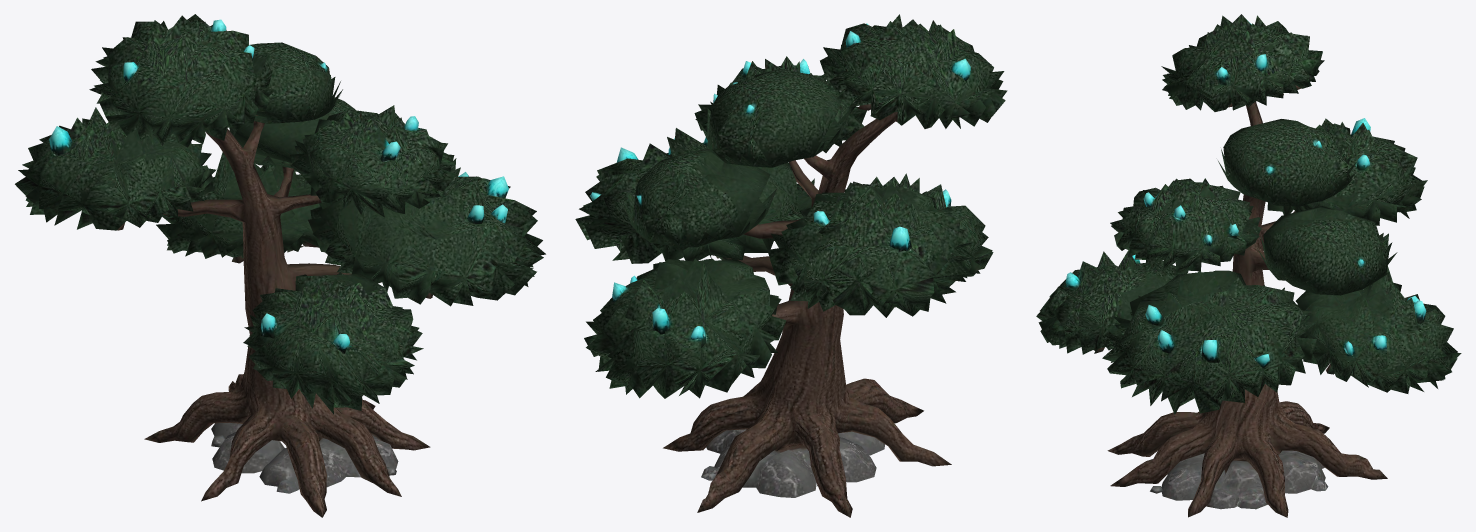
Rendered from tripo_convert_12ac5a87-fcd3-4eff-9768-cd3d885d4922.fbx.
The picture shows the model from 3 angles, left to right: view 1: azimuth 30°, elevation 25°; view 2: azimuth 150°, elevation 25°; view 3: azimuth 270°, elevation 25°; orthographic projection. The views are drawn at different scales.
Visible parts, largest first — view 1: tripo_node_12ac5a87; view 2: tripo_node_12ac5a87; view 3: tripo_node_12ac5a87.
Boxes of the visible parts, <box> form: tripo_node_12ac5a87: <box>15,14,545,517</box>; tripo_node_12ac5a87: <box>575,14,1007,517</box>; tripo_node_12ac5a87: <box>1036,14,1461,517</box>.
Bounding box in the file's own units: 0.998 × 0.998 × 0.959.
Materials: 1 (1 with a texture image).
